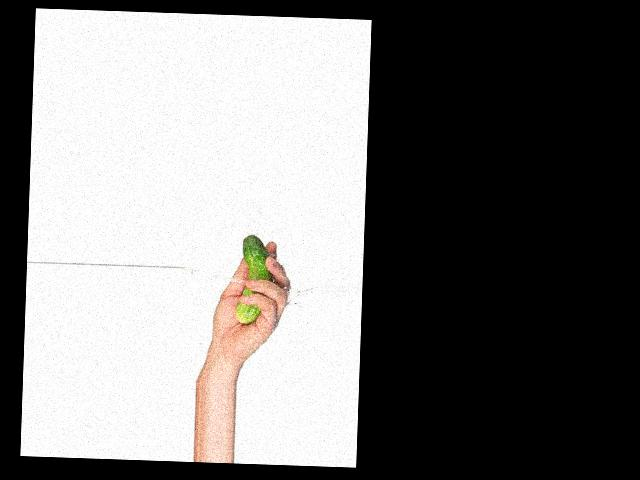cucumber: (236, 234, 272, 324)
